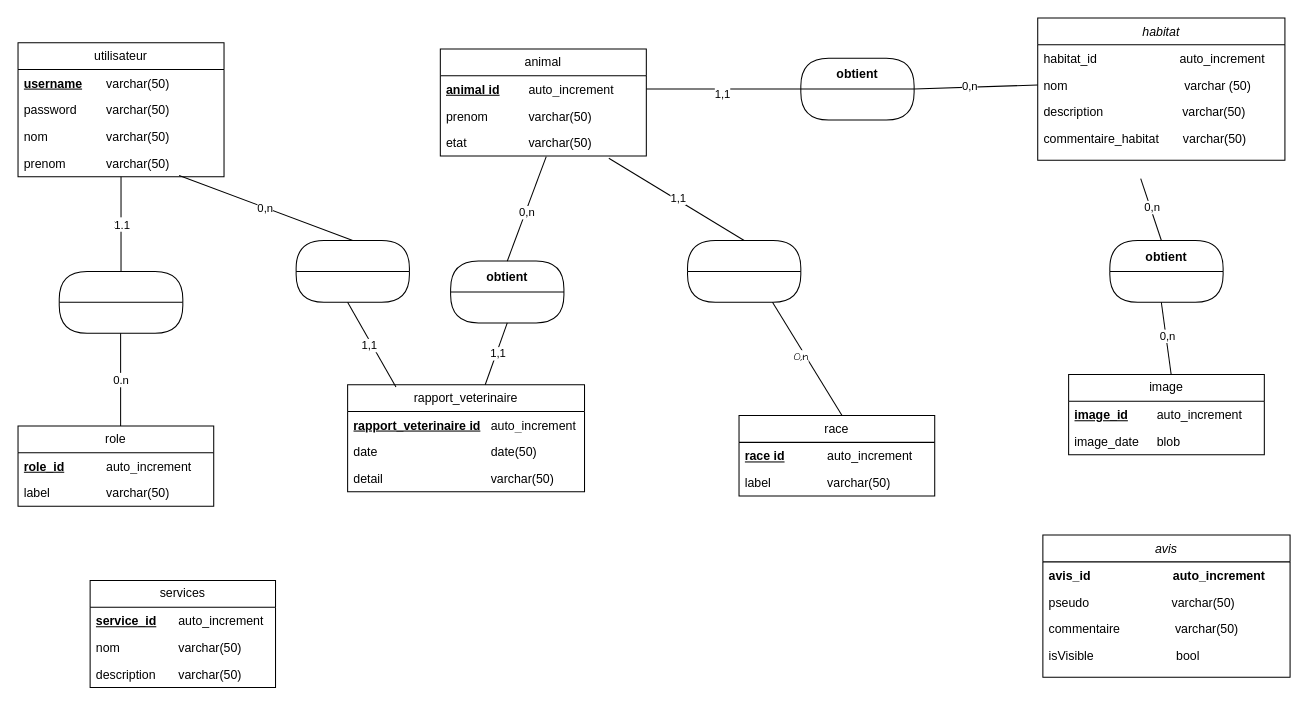
This 1308x709 diagram has some shape labels left out. Each missing label, with the centre of its shape:
dispose: pixel 743 270
possede: pixel 120 301
rédige: pixel 352 270
